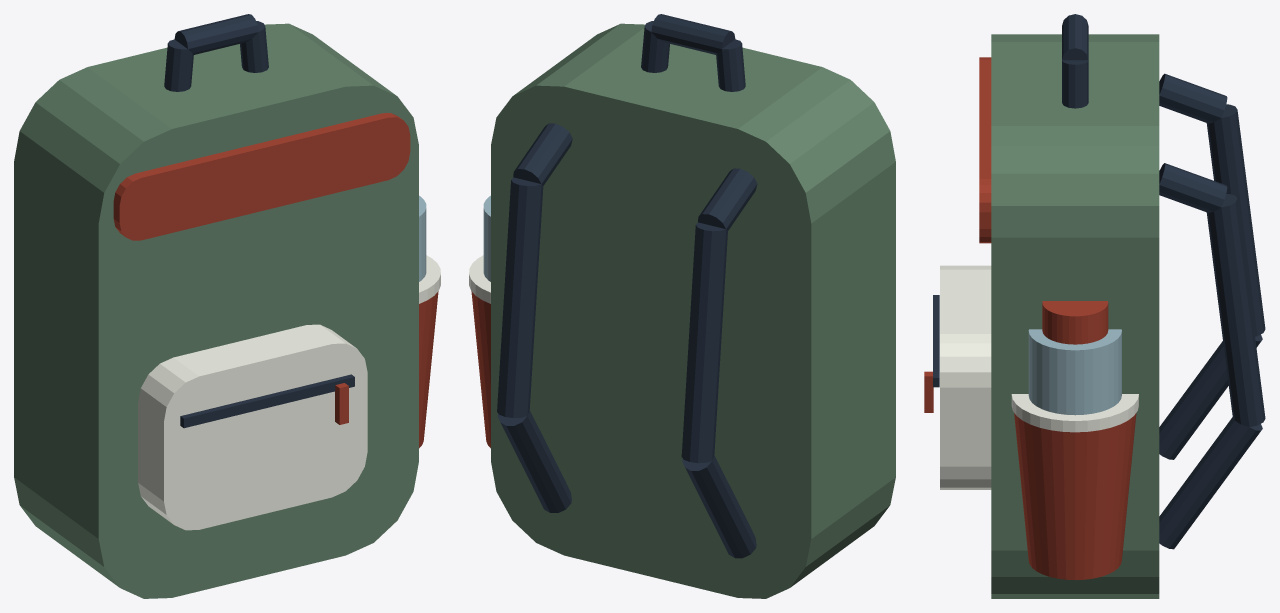
Rendered from backpack.glb.
The picture shows the model from 3 angles, left to right: view 1: azimuth 30°, elevation 25°; view 2: azimuth 150°, elevation 25°; view 3: azimuth 270°, elevation 25°; orthographic projection.
Visible parts, largest first — view 1: fabric shell, front pocket, lid binding, zip, carry loop1, side pocket, carry loop0, carry loop2, pocket rim, bottle neck, zip pull; view 2: fabric shell, strap -0.341, strap 0.341, strap -0.342, strap 0.342, carry loop1, strap -0.340, strap 0.340, side pocket, carry loop0, carry loop2, pocket rim (+1 smaller); view 3: fabric shell, side pocket, front pocket, strap 0.341, bottle neck, strap 0.342, strap -0.341, strap -0.342, cap, pocket rim, lid binding, strap -0.340 (+4 smaller).
Boxes of the visible parts, bbox=[...] form: fabric shell: bbox=[14, 23, 418, 598]; front pocket: bbox=[138, 324, 367, 530]; lid binding: bbox=[113, 113, 410, 240]; zip: bbox=[180, 374, 354, 428]; carry loop1: bbox=[174, 14, 258, 54]; side pocket: bbox=[419, 291, 438, 448]; carry loop0: bbox=[164, 39, 193, 91]; carry loop2: bbox=[240, 21, 268, 72]; pocket rim: bbox=[419, 255, 440, 303]; bottle neck: bbox=[419, 195, 426, 281]; zip pull: bbox=[335, 383, 348, 424]; fabric shell: bbox=[491, 23, 895, 598]; strap -0.341: bbox=[681, 222, 727, 463]; strap 0.341: bbox=[497, 177, 543, 417]; strap -0.342: bbox=[682, 455, 756, 558]; strap 0.342: bbox=[497, 410, 571, 512]; carry loop1: bbox=[651, 14, 735, 54]; strap -0.340: bbox=[698, 168, 757, 230]; strap 0.340: bbox=[513, 123, 572, 185]; side pocket: bbox=[471, 291, 490, 448]; carry loop0: bbox=[716, 39, 745, 91]; carry loop2: bbox=[641, 21, 669, 72]; pocket rim: bbox=[469, 255, 490, 303]; fabric shell: bbox=[991, 34, 1159, 598]; side pocket: bbox=[1014, 413, 1136, 580]; front pocket: bbox=[940, 265, 991, 489]; strap 0.341: bbox=[1206, 194, 1265, 427]; bottle neck: bbox=[1028, 329, 1121, 415]; strap 0.342: bbox=[1159, 417, 1262, 549]; strap -0.341: bbox=[1206, 104, 1265, 336]; strap -0.342: bbox=[1159, 334, 1262, 459]; cap: bbox=[1042, 301, 1108, 344]; pocket rim: bbox=[1011, 394, 1138, 432]; lid binding: bbox=[979, 57, 991, 243]; strap -0.340: bbox=[1159, 73, 1227, 123].
Bounding box in the file's own units: 1.38 × 1.84 × 1.1.
